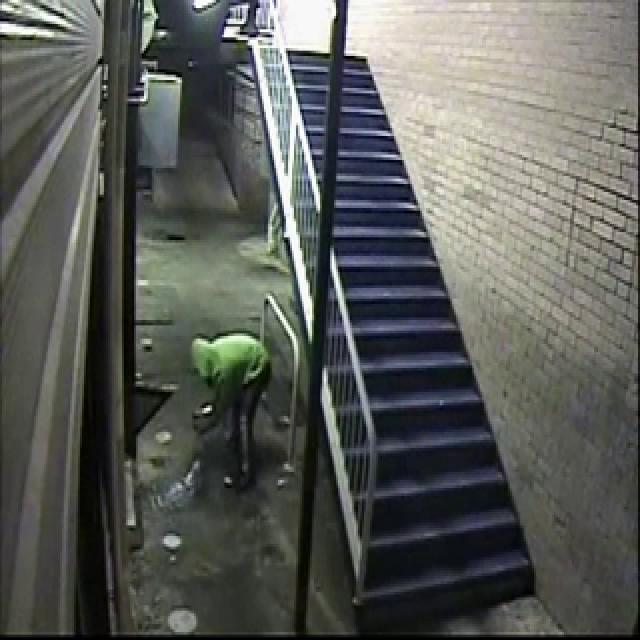arson: (126, 170, 345, 534)
